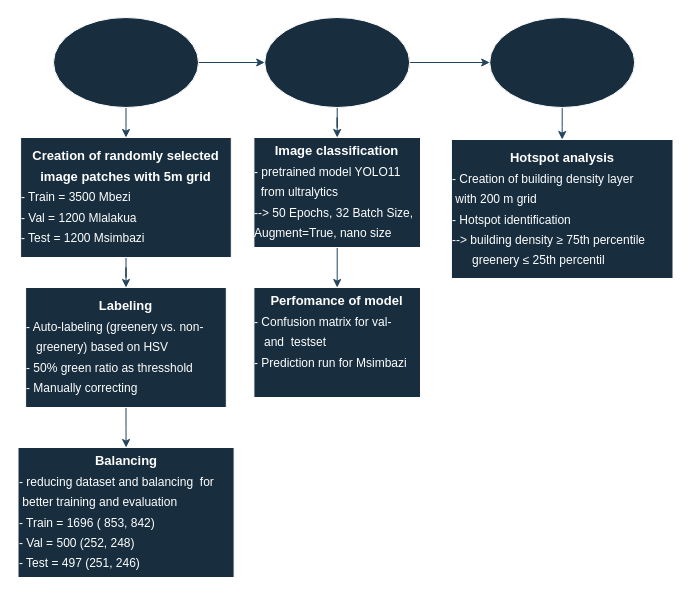
Some shapes in this 690 by 595 pixel diagram are drawn without their labels. The centre of each missing label's shape, as x and y in pixels:
"Application" belongs at pixel 562 62.
"Data preparation" belongs at pixel 125 62.
"Training & Evaluation" belongs at pixel 337 62.
